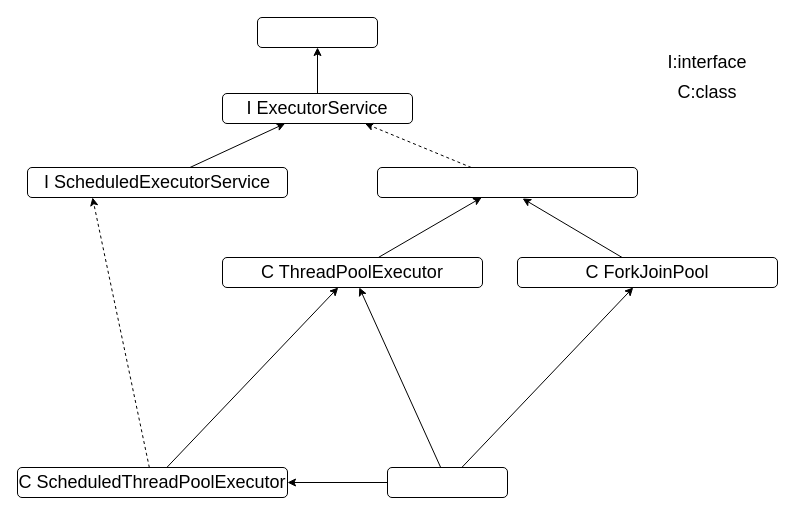
The diagram is 795 pixels wide and 515 high, and some of its shapes have lost their labels. The centre of each missing label's shape, as x and y in pixels:
"C AbstractExecutorService" belongs at (507,182).
"C Executors" belongs at (447,482).
"I Executor" belongs at (317,32).
